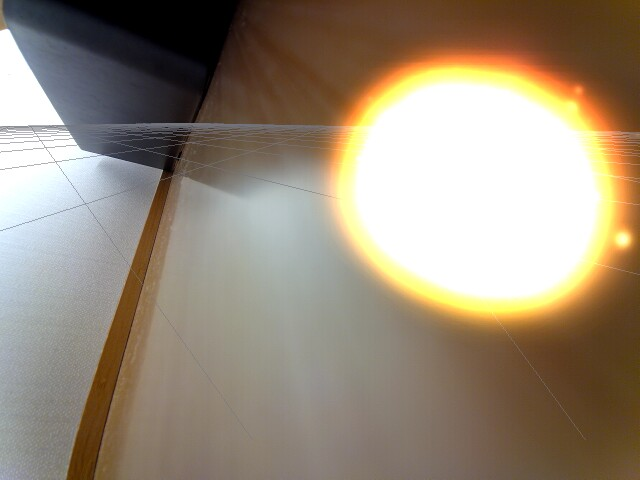firebig: (312, 48, 618, 333)
